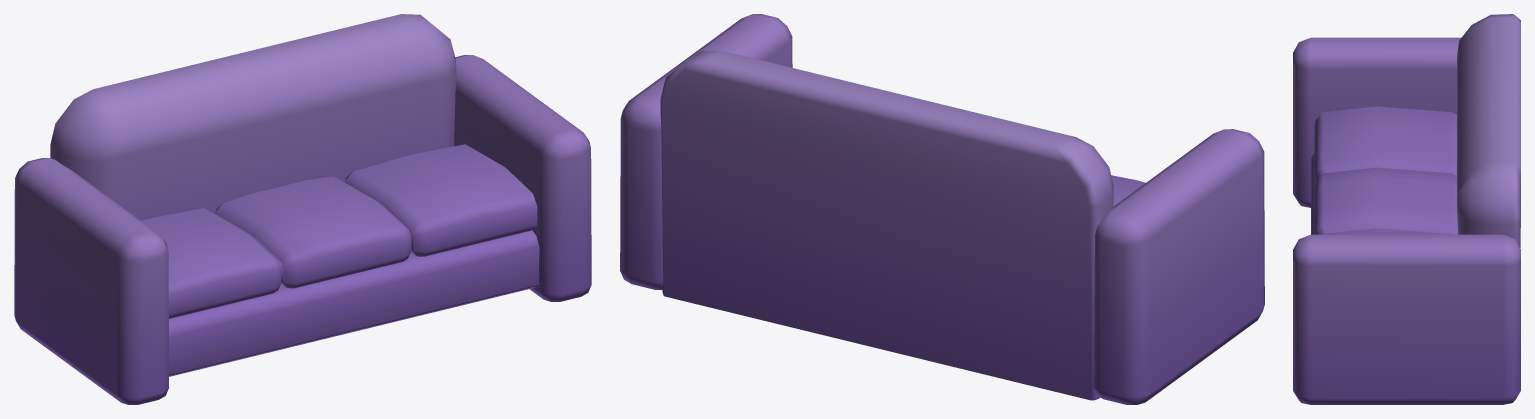
File: Furniture_Sofa_05.fbx
3 views of the same model, side by side, from view 1: azimuth 30°, elevation 25°; view 2: azimuth 150°, elevation 25°; view 3: azimuth 270°, elevation 25° (orthographic). The views are drawn at different scales.
Visible parts, largest first — view 1: Furniture_Sofa_05; view 2: Furniture_Sofa_05; view 3: Furniture_Sofa_05.
Part boxes in pixels (<box>): Furniture_Sofa_05: <box>14,14,591,404</box>; Furniture_Sofa_05: <box>620,14,1264,404</box>; Furniture_Sofa_05: <box>1293,14,1520,404</box>.
Size of the model in its own units: 400 by 179 by 174.
